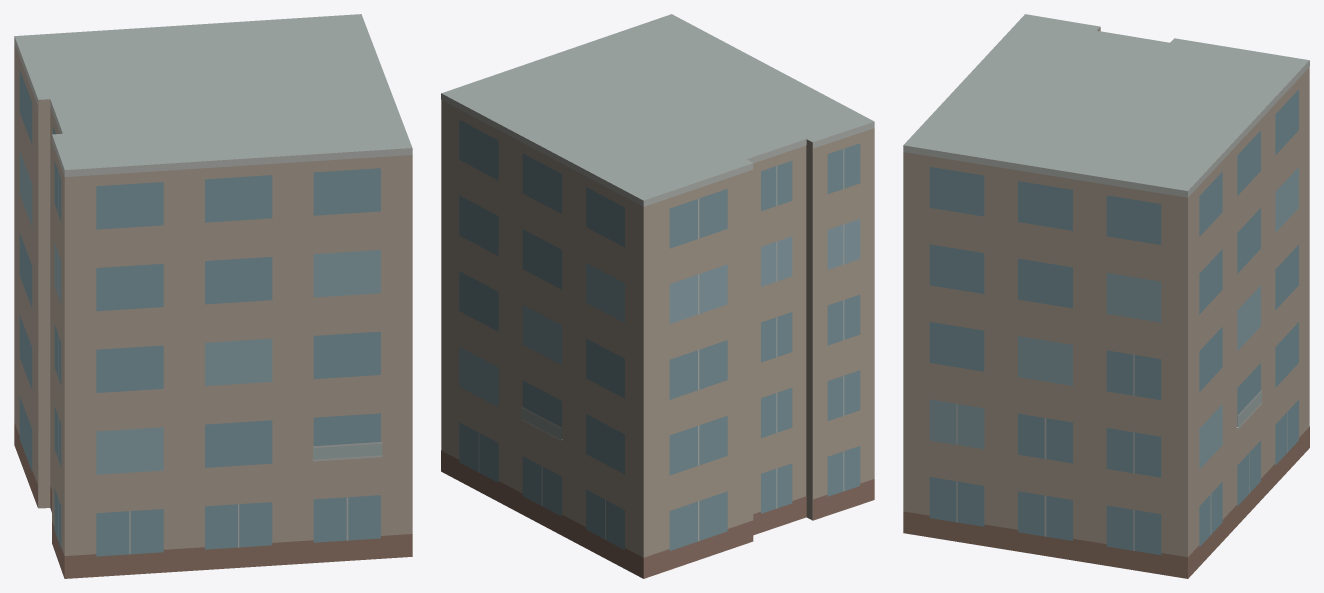
File: survey-upis-32878037.glb
3 renders of one model, left to right at view 1: azimuth 30°, elevation 25°; view 2: azimuth 150°, elevation 25°; view 3: azimuth 270°, elevation 25°, orthographic. The views are drawn at different scales.
Parts seen in each view (by area): view 1: survey-upis-32878037.tmp; view 2: survey-upis-32878037.tmp; view 3: survey-upis-32878037.tmp.
Boxes of the visible parts, left/top/right/bottom form: survey-upis-32878037.tmp: left=14, top=14, right=412, bottom=578; survey-upis-32878037.tmp: left=441, top=14, right=874, bottom=578; survey-upis-32878037.tmp: left=903, top=14, right=1309, bottom=578.
Bounding box in the file's own units: 14.12 × 14.4 × 13.69.
